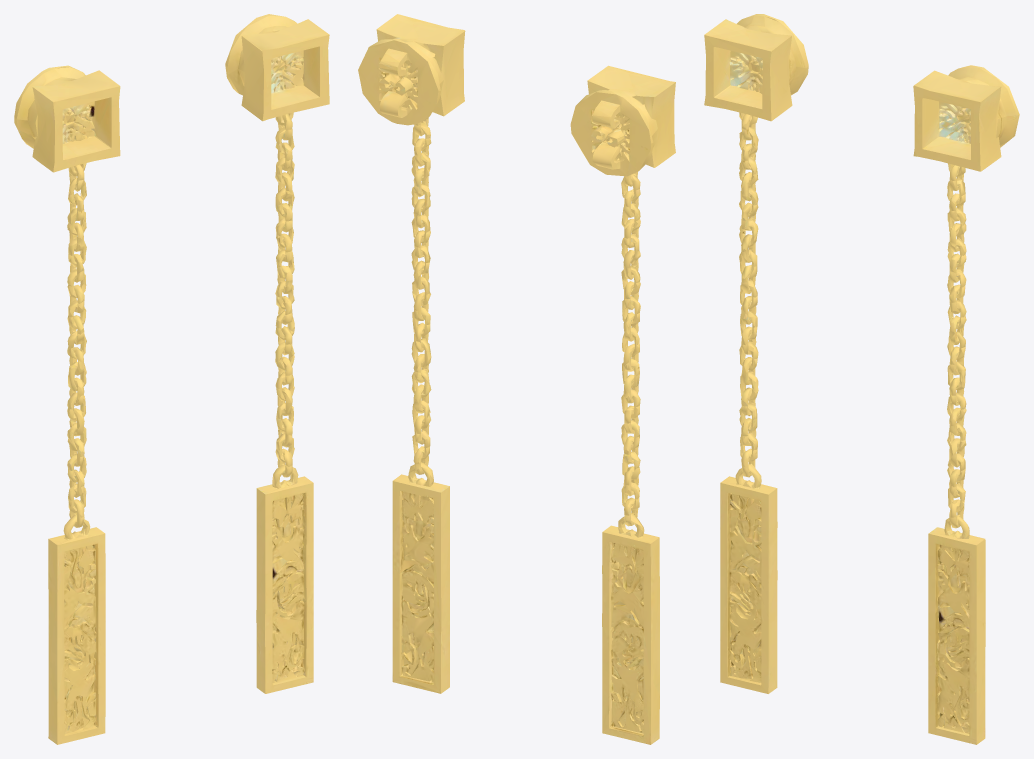
File: stone-pendant-earrings-v1.glb
3 views of the same model, side by side, from view 1: azimuth 30°, elevation 25°; view 2: azimuth 150°, elevation 25°; view 3: azimuth 330°, elevation 25° (orthographic).
Visible parts, largest first — view 1: Mesh_0; view 2: Mesh_0; view 3: Mesh_0.
Part boxes in pixels (<box>): Mesh_0: <box>14,14,329,744</box>; Mesh_0: <box>358,14,675,744</box>; Mesh_0: <box>704,14,1019,744</box>.
Bounding box in the file's own units: 0.8833 × 1.9 × 0.2186.
Materials: 1 (1 with a texture image).
